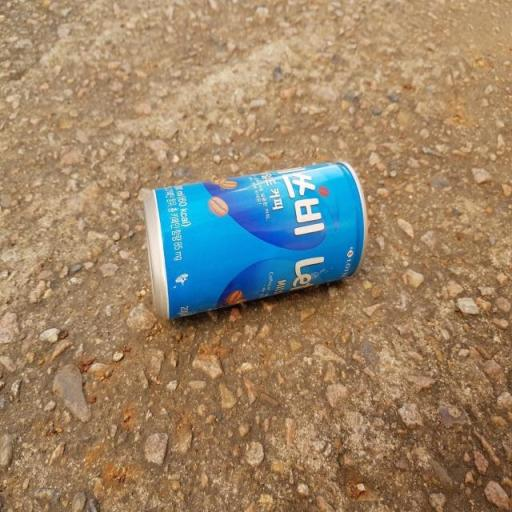metal: (132, 141, 391, 354)
